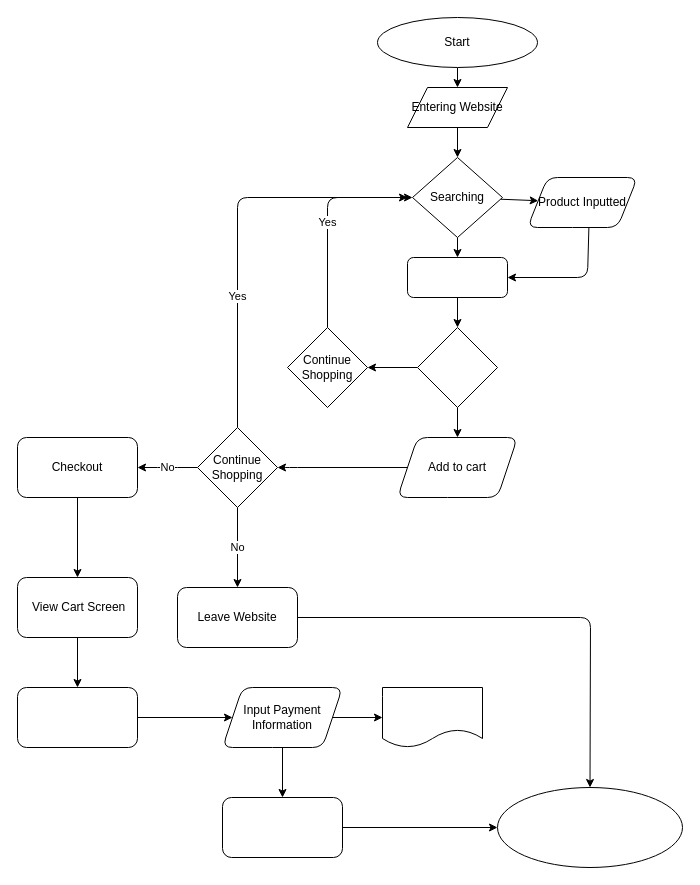
This 700x885 diagram has some shape labels left out. The box of each missing label's shape, as (x1, y1, x2, y2) in pixels:
Email of order: (382, 686, 482, 748)
Exit Website: (496, 786, 682, 868)
Explore Products: (406, 256, 508, 298)
Order Confirmation Screen: (222, 796, 342, 858)
View Payment Screen: (16, 686, 138, 748)
View Product: (416, 326, 498, 408)
